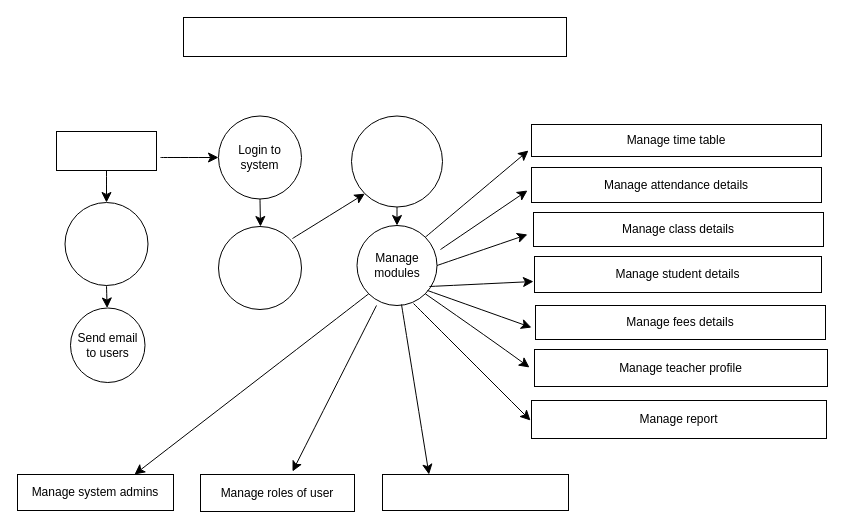
This 845x529 diagram has some shape labels left out. Each missing label, with the box of its shape:
Admin: (56, 130, 156, 170)
Check credentials: (218, 226, 302, 310)
Check roles of access: (350, 115, 442, 207)
Forgot password: (64, 202, 148, 286)
Manage user permission: (382, 474, 568, 510)
Student Information system: (182, 16, 566, 56)
